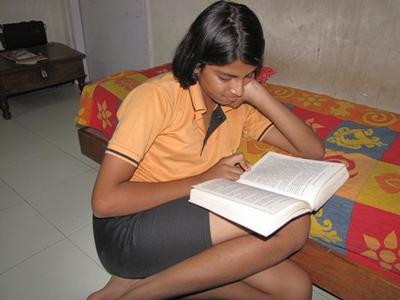person: (85, 1, 326, 300)
